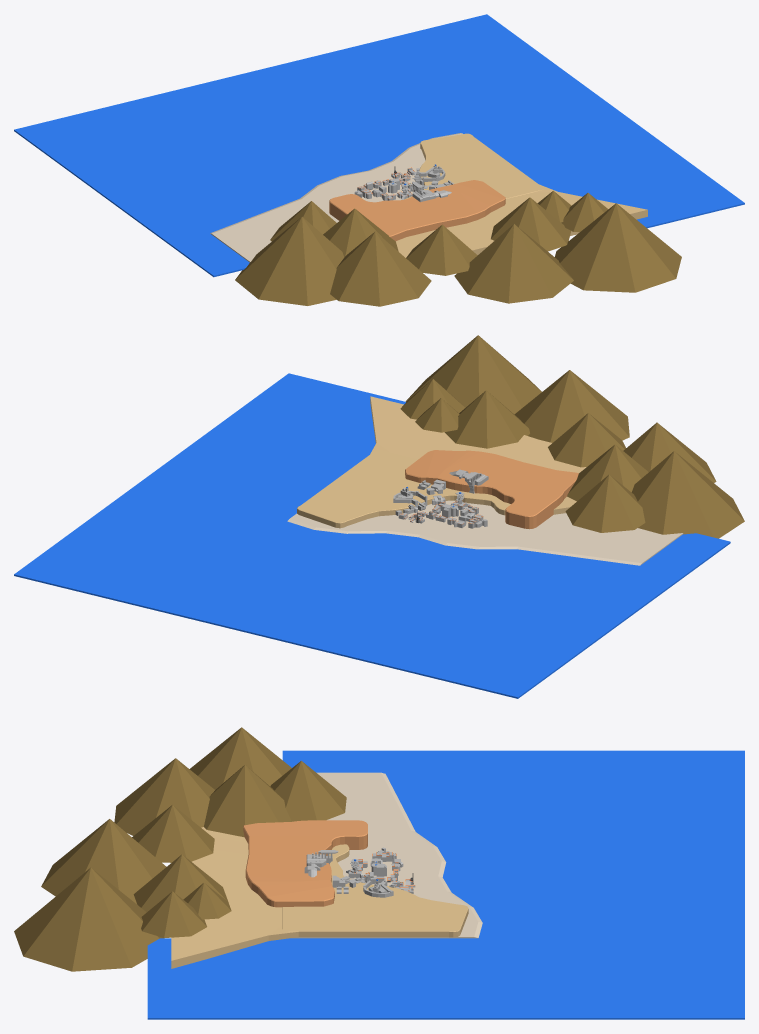
Rendered from testcity.gltf.
The picture shows the model from 3 angles, top to bottom: view 1: azimuth 30°, elevation 25°; view 2: azimuth 150°, elevation 25°; view 3: azimuth 270°, elevation 25°; orthographic projection. The views are drawn at different scales.
Parts seen in each view (by area): view 1: Cube.006, Cube.007, Cube, Cube.003, Cube.005, Cube.002; view 2: Cube.006, Cube.007, Cube, Cube.005, Cube.003, Cube.002; view 3: Cube.006, Cube.007, Cube, Cube.005, Cube.003, Cube.002.
Boxes of the visible parts, <box> form: Cube.006: <box>14,14,744,277</box>; Cube.007: <box>235,190,681,306</box>; Cube: <box>396,133,647,257</box>; Cube.003: <box>329,180,505,240</box>; Cube.005: <box>210,133,462,262</box>; Cube.002: <box>354,165,453,201</box>; Cube.006: <box>14,373,730,698</box>; Cube.007: <box>400,335,744,538</box>; Cube: <box>297,396,586,528</box>; Cube.005: <box>287,500,683,565</box>; Cube.003: <box>405,450,578,529</box>; Cube.002: <box>393,469,488,528</box>; Cube.006: <box>147,750,744,1019</box>; Cube.007: <box>14,727,346,971</box>; Cube: <box>171,827,468,968</box>; Cube.005: <box>291,772,482,938</box>; Cube.003: <box>243,820,367,907</box>; Cube.002: <box>304,847,415,897</box>.
Size of the model in its own units: 2013 by 252 by 2327.
